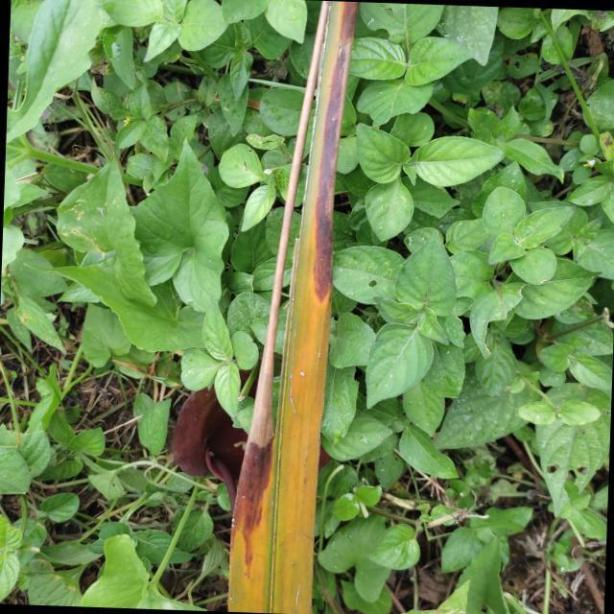Megnesium: (224, 0, 360, 614)
